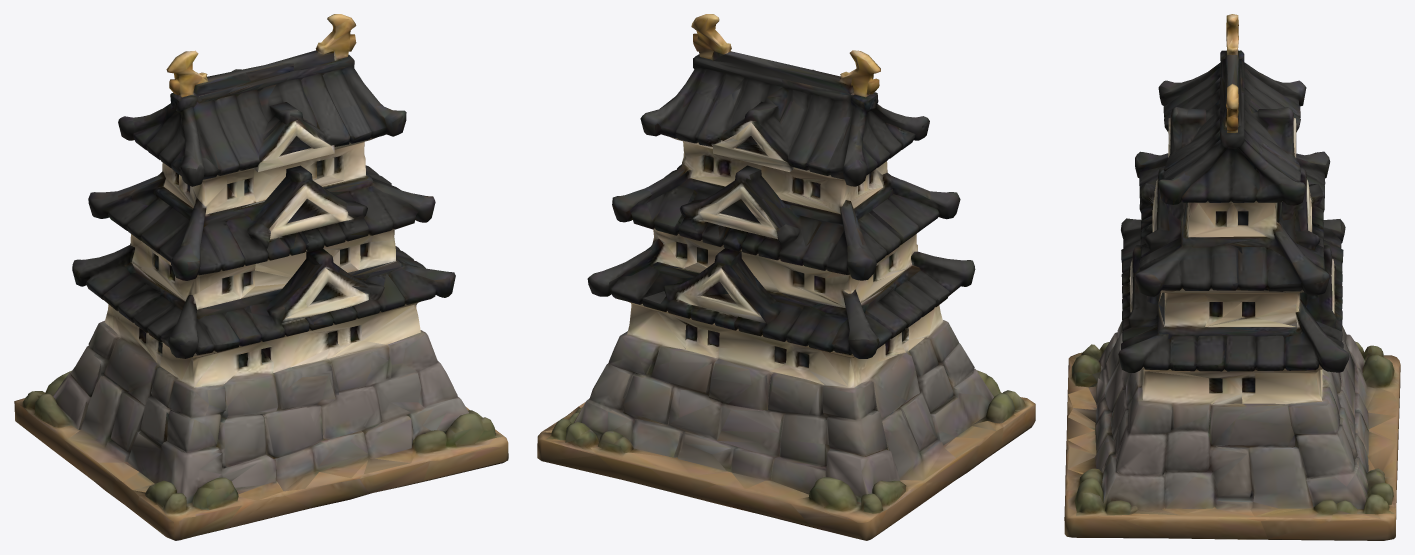
Rendered from keep2.glb.
The picture shows the model from 3 angles, left to right: view 1: azimuth 30°, elevation 25°; view 2: azimuth 150°, elevation 25°; view 3: azimuth 270°, elevation 25°; orthographic projection.
Visible parts, largest first — view 1: tripo_node_84156fe0-b562-4b09-b60e-c8958df9cde3; view 2: tripo_node_84156fe0-b562-4b09-b60e-c8958df9cde3; view 3: tripo_node_84156fe0-b562-4b09-b60e-c8958df9cde3.
Boxes of the visible parts, bbox=[...] form: tripo_node_84156fe0-b562-4b09-b60e-c8958df9cde3: bbox=[14, 14, 508, 540]; tripo_node_84156fe0-b562-4b09-b60e-c8958df9cde3: bbox=[537, 14, 1035, 540]; tripo_node_84156fe0-b562-4b09-b60e-c8958df9cde3: bbox=[1064, 14, 1400, 540].
Size of the model in its own units: 0.8578 by 0.9791 by 0.7294.
1 material, 1 textured.
